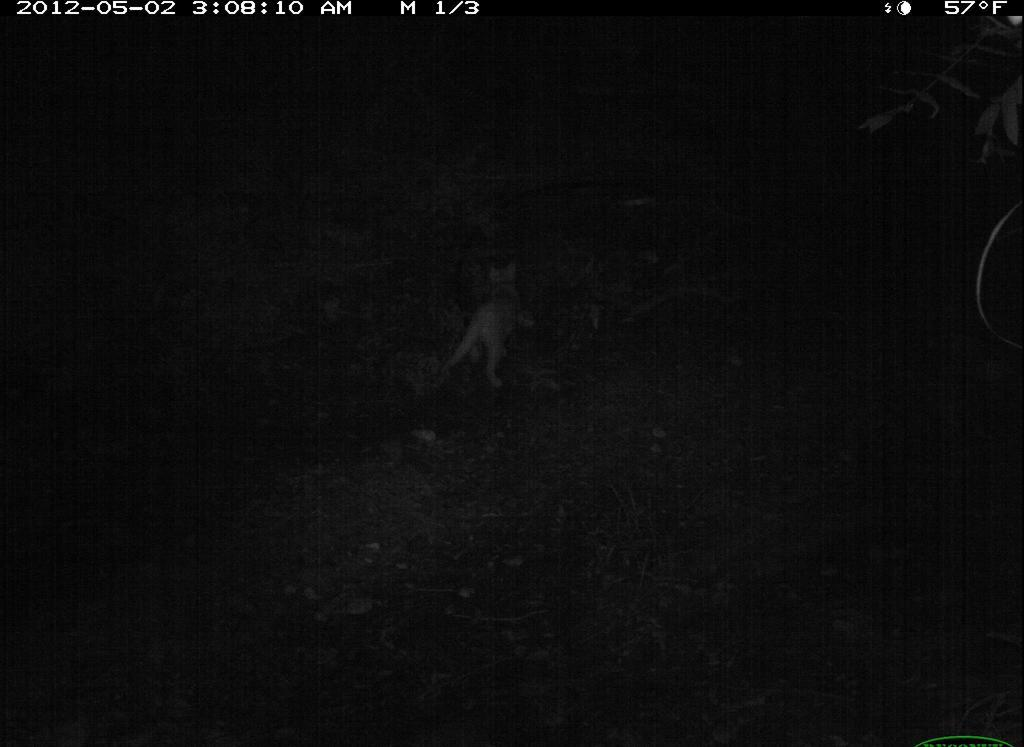cat: (434, 254, 546, 395)
